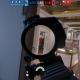Character: (39, 37, 44, 50)
Friend_label: (64, 58, 70, 61)
Head: (40, 37, 42, 40)
